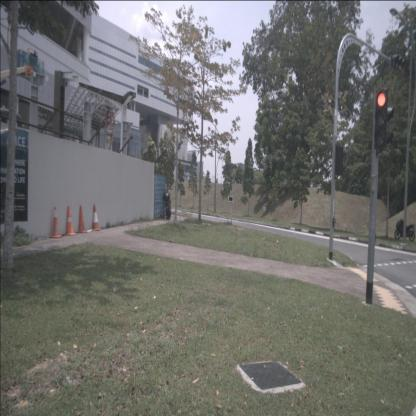cone: (49, 206, 63, 238), (64, 205, 77, 235), (76, 206, 87, 233), (91, 204, 101, 231)
